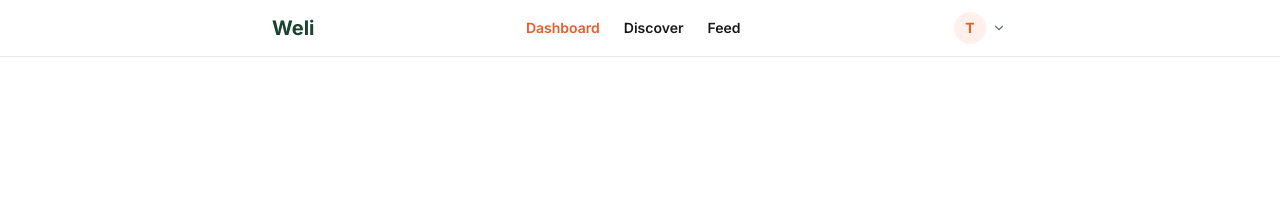
Test case: NavBar › opens the dropdown when avatar button is clicked
What coordinates should you click on to do the following:
click the button named "user menu"
I would click on:
 (980, 28)
Its box is x1=952 y1=10 x2=1008 y2=46.
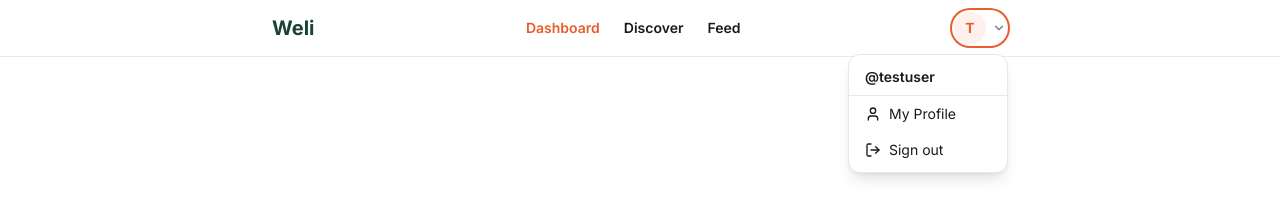
Now the menu is shown, box x1=848 y1=54 x2=1008 y2=173
